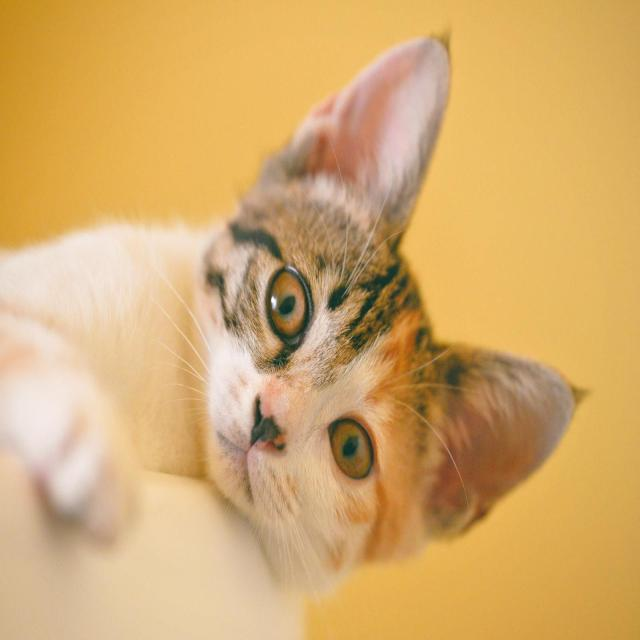Cat: (0, 30, 590, 603)
